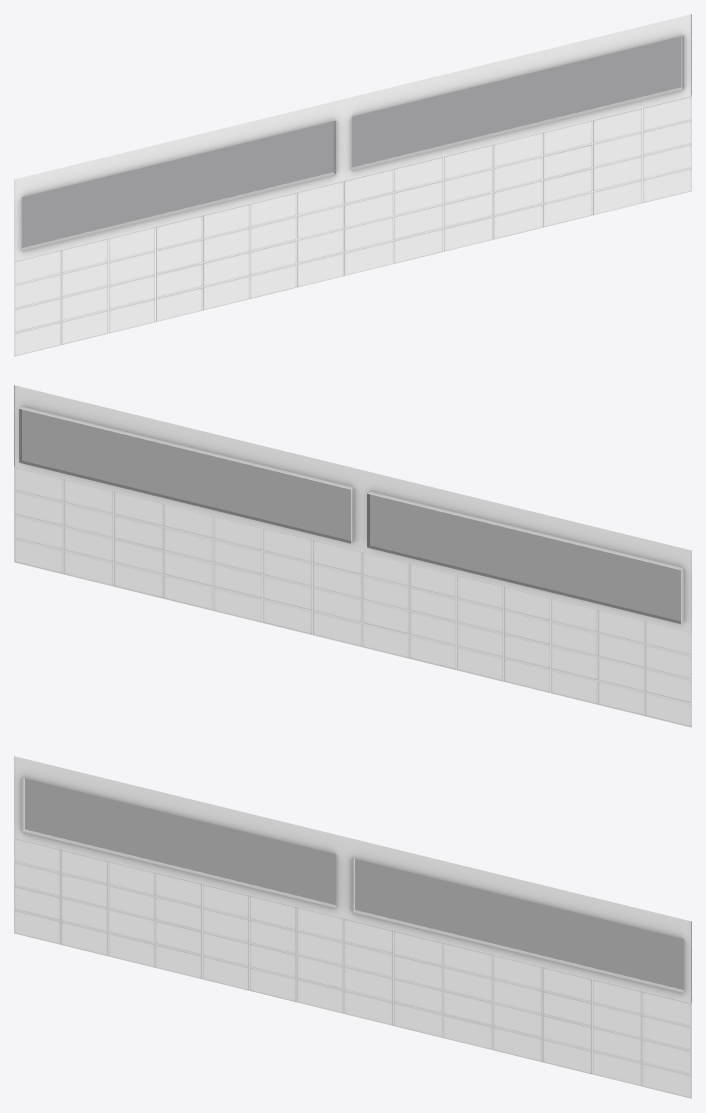
Rendered from Hall_with_lighting5.glb.
3 renders of one model, top to bottom at view 1: azimuth 30°, elevation 25°; view 2: azimuth 150°, elevation 25°; view 3: azimuth 330°, elevation 25°, orthographic.
Parts seen in each view (by area): view 1: Cube.028, Cube.027, Cube.024; view 2: Cube.028, Cube.027, Cube.024; view 3: Cube.028, Cube.027, Cube.024.
Boxes of the visible parts, box(x1,y1,x2,y2) form: Cube.028: box(14, 95, 691, 356); Cube.027: box(22, 36, 680, 247); Cube.024: box(14, 14, 691, 260); Cube.028: box(14, 466, 691, 727); Cube.027: box(19, 409, 680, 623); Cube.024: box(14, 385, 691, 631); Cube.028: box(14, 837, 691, 1098); Cube.027: box(25, 778, 683, 989); Cube.024: box(14, 756, 691, 1002).
Size of the model in its own units: 73.41 by 18.35 by 0.5956.
Materials: 3 (2 with a texture image).
